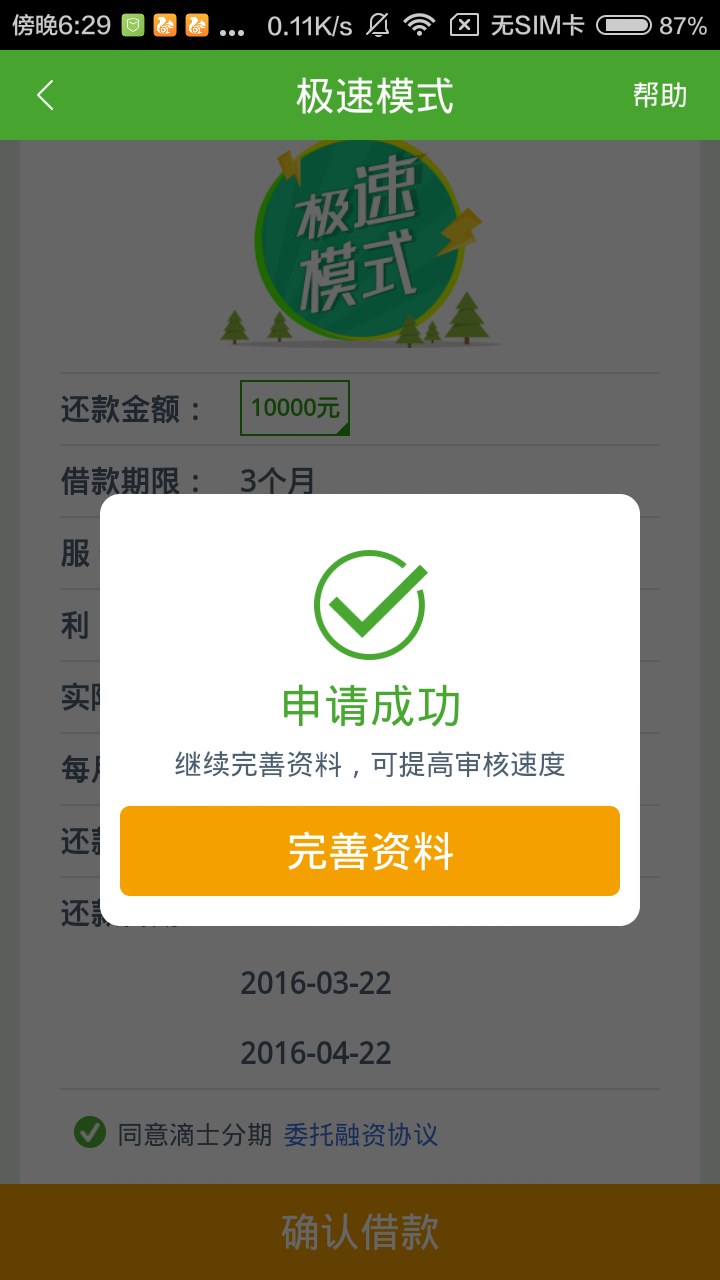alert: (87, 483, 652, 942)
button: (110, 796, 629, 907)
imgview: (262, 540, 473, 735)
textview: (167, 745, 579, 790)
